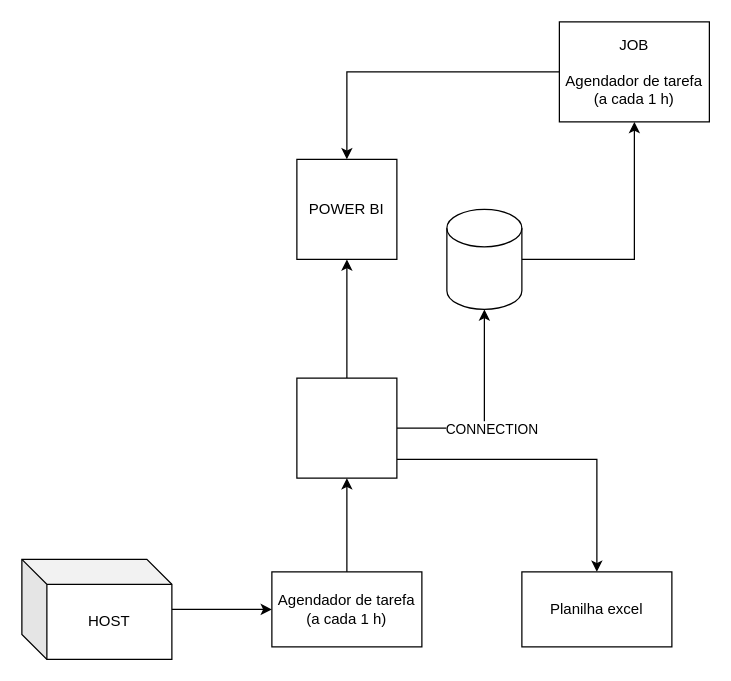
Image size: 731x681. Some labels were removed from this diagram. Each missing label, with the centre of its shape:
"file.py" goes at pixel 346 427.
"SQL" goes at pixel 484 258.
